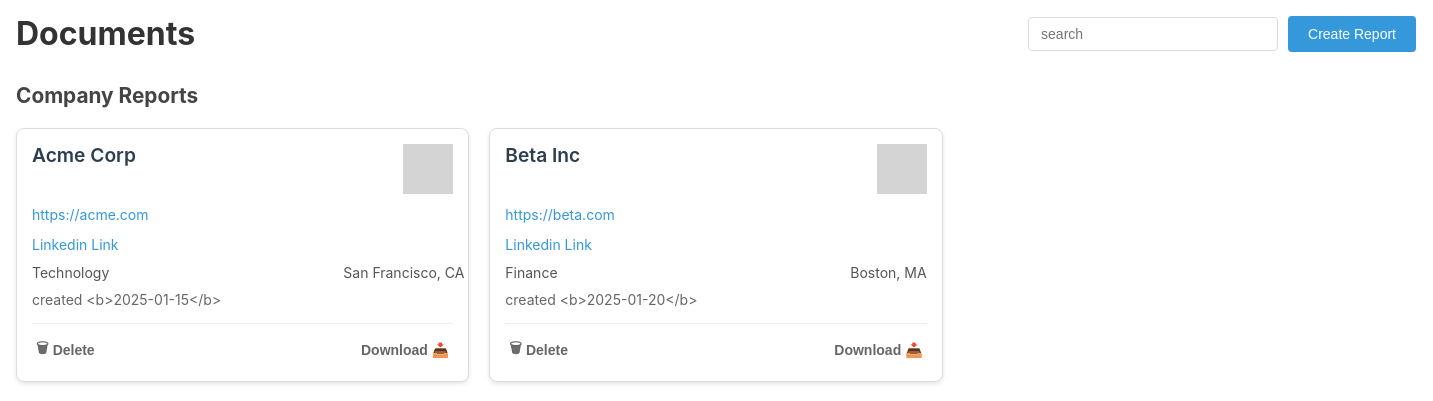
Test case: Documents Component › Delete Functionality › deletes report when confirmed
Check: the heading "Acme Corp" is shown, box [32,143,136,167]
Click the text "Delete" below "created <b>2025-01-15</b>" at coordinates (74, 350), box [53,342,95,358]
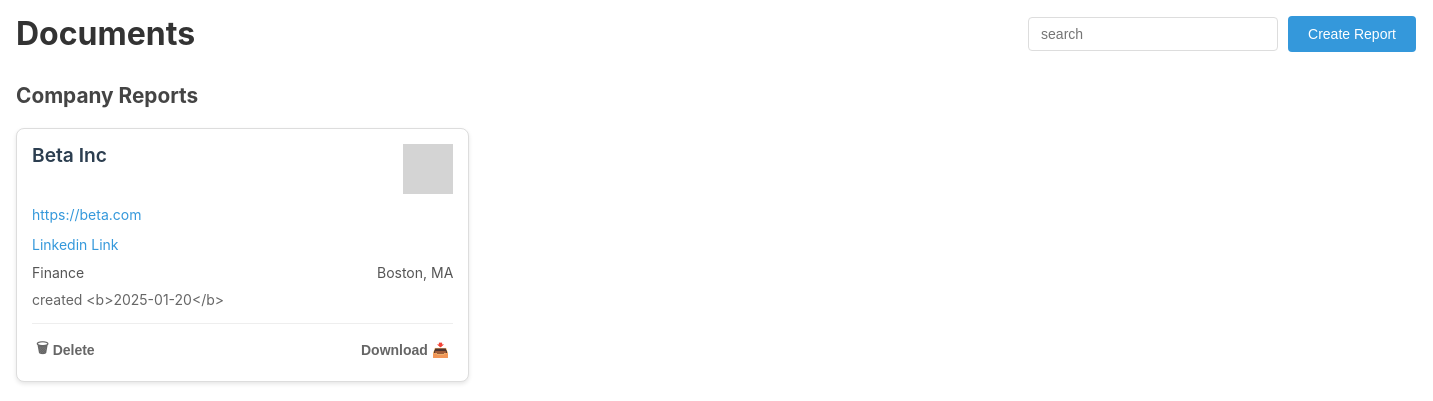
Check: the heading "Beta Inc" is shown, box [32,143,107,167]
Check: the heading "Acme Corp" is gone
